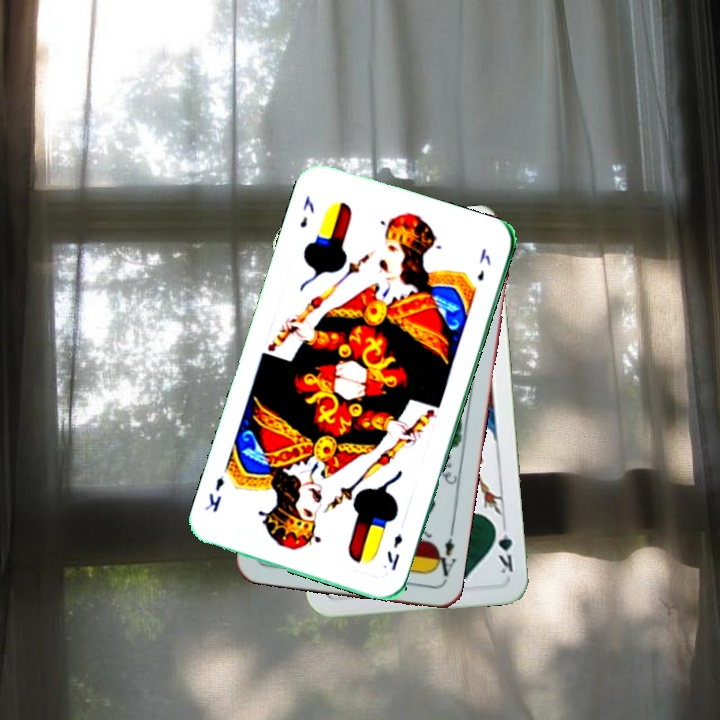EA: (429, 525, 458, 584)
EK: (383, 530, 405, 574), (295, 192, 317, 231)
GK: (491, 519, 516, 576)
